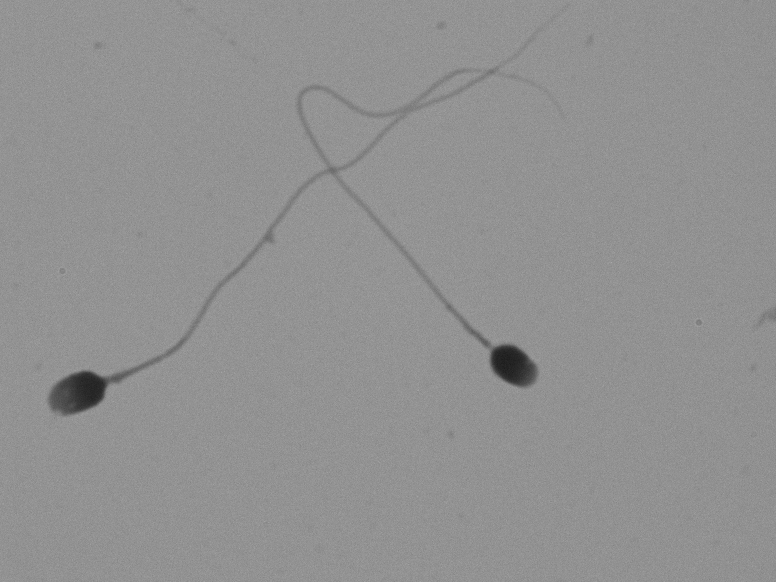Abnormal: (30, 175, 274, 438)
Normal: (284, 46, 606, 402)
